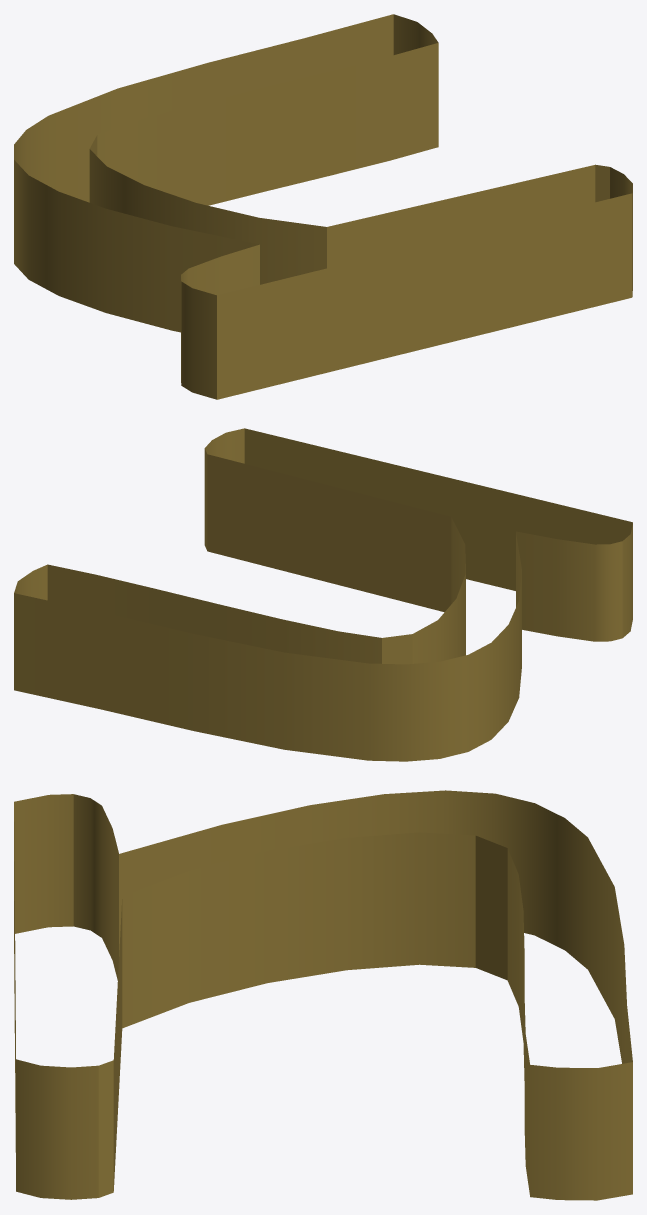
The model's file is original-58.obj.
3 renders of one model, top to bottom at view 1: azimuth 30°, elevation 25°; view 2: azimuth 150°, elevation 25°; view 3: azimuth 270°, elevation 25°, orthographic. The views are drawn at different scales.
Parts seen in each view (by area): view 1: #ID106; view 2: #ID106; view 3: #ID106.
Boxes of the visible parts, x1,y1,x2,y2 form: #ID106: [14, 14, 632, 399]; #ID106: [14, 428, 632, 761]; #ID106: [14, 790, 632, 1200].
Size of the model in its own units: 0.00792 by 0.00176 by 0.00746.
